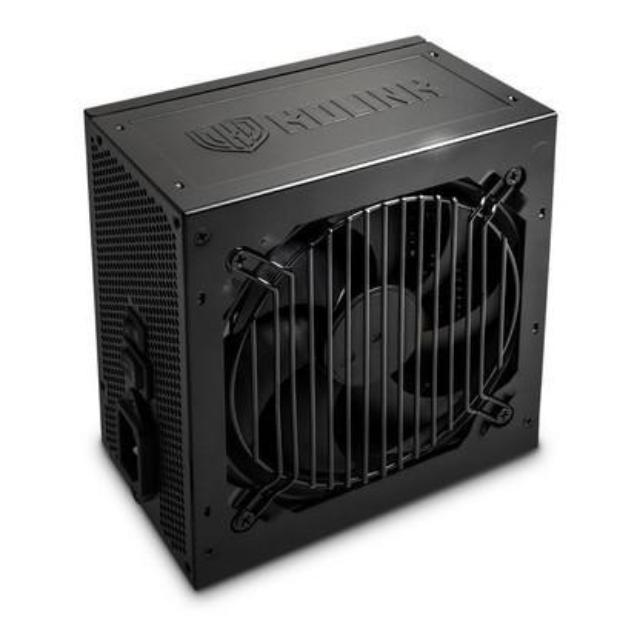PSU: (78, 29, 554, 597)
